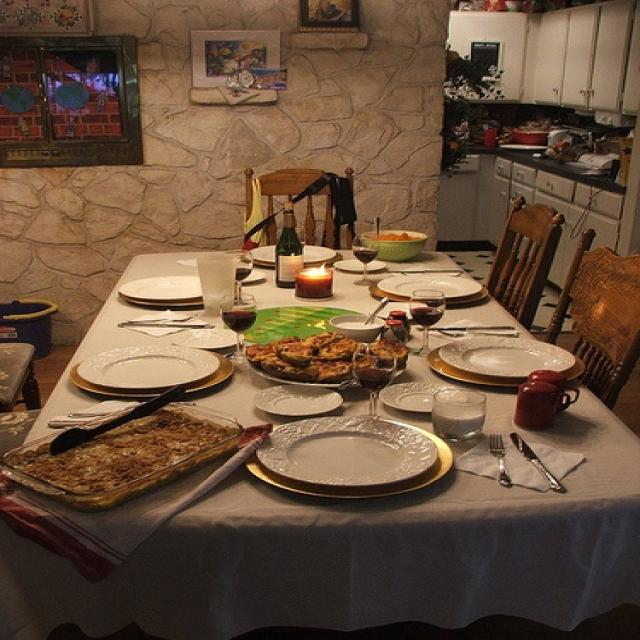bottle: (273, 201, 306, 285)
chair: (541, 232, 638, 409), (486, 197, 566, 329), (244, 168, 358, 250)
diningtable: (2, 252, 638, 639)
